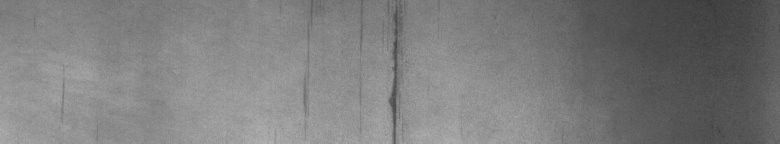hd: (303, 4, 404, 136)
